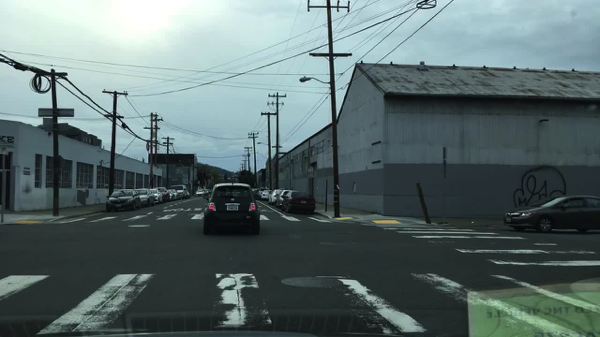car: (503, 196, 599, 234), (202, 181, 262, 237), (280, 191, 317, 214), (106, 189, 141, 212), (135, 187, 156, 206), (273, 190, 292, 207), (170, 184, 187, 199), (268, 189, 282, 205), (149, 188, 162, 205), (157, 185, 169, 201), (254, 187, 270, 199), (261, 190, 273, 200), (172, 190, 181, 199), (168, 189, 175, 200), (195, 190, 205, 196), (250, 188, 257, 194), (198, 189, 206, 194), (186, 191, 191, 199), (204, 188, 210, 194)
traffic sign: (38, 107, 74, 116), (44, 118, 52, 132), (57, 122, 69, 130)
